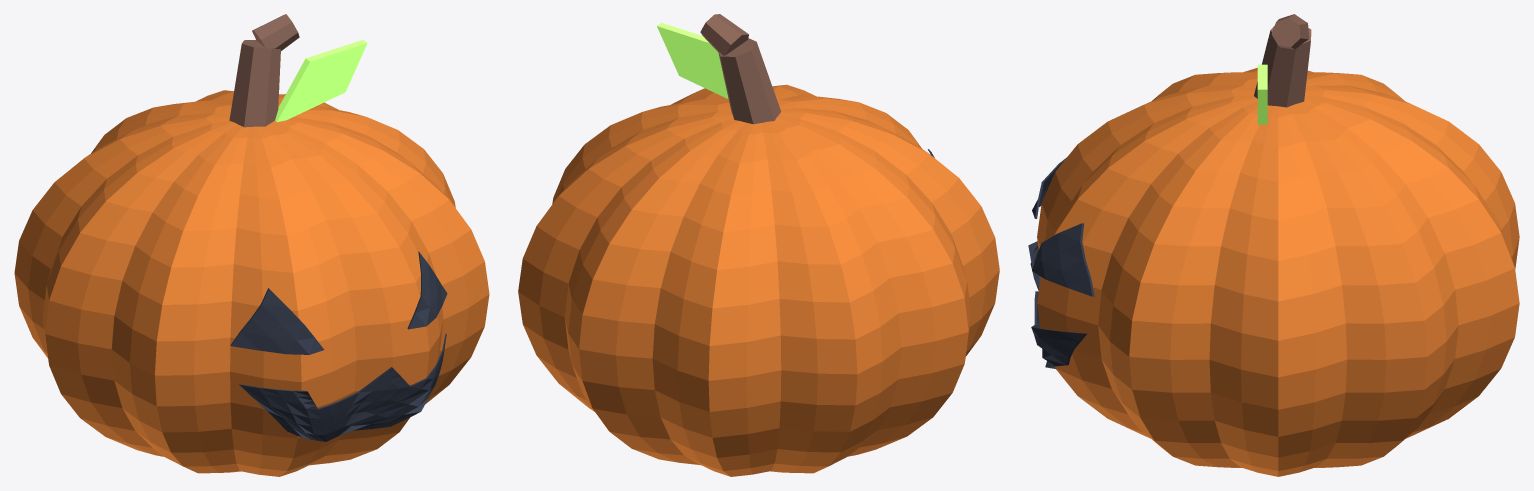
File: halloween-jackolantern.glb
3 renders of one model, left to right at view 1: azimuth 30°, elevation 25°; view 2: azimuth 150°, elevation 25°; view 3: azimuth 270°, elevation 25°, orthographic. The views are drawn at different scales.
Visible parts, largest first — view 1: jack-o-lantern; view 2: jack-o-lantern; view 3: jack-o-lantern.
Boxes of the visible parts, <box> form: jack-o-lantern: <box>14,14,489,476</box>; jack-o-lantern: <box>518,14,999,476</box>; jack-o-lantern: <box>1028,14,1519,476</box>.
Bounding box in the file's own units: 0.9372 × 0.9162 × 0.9074.
